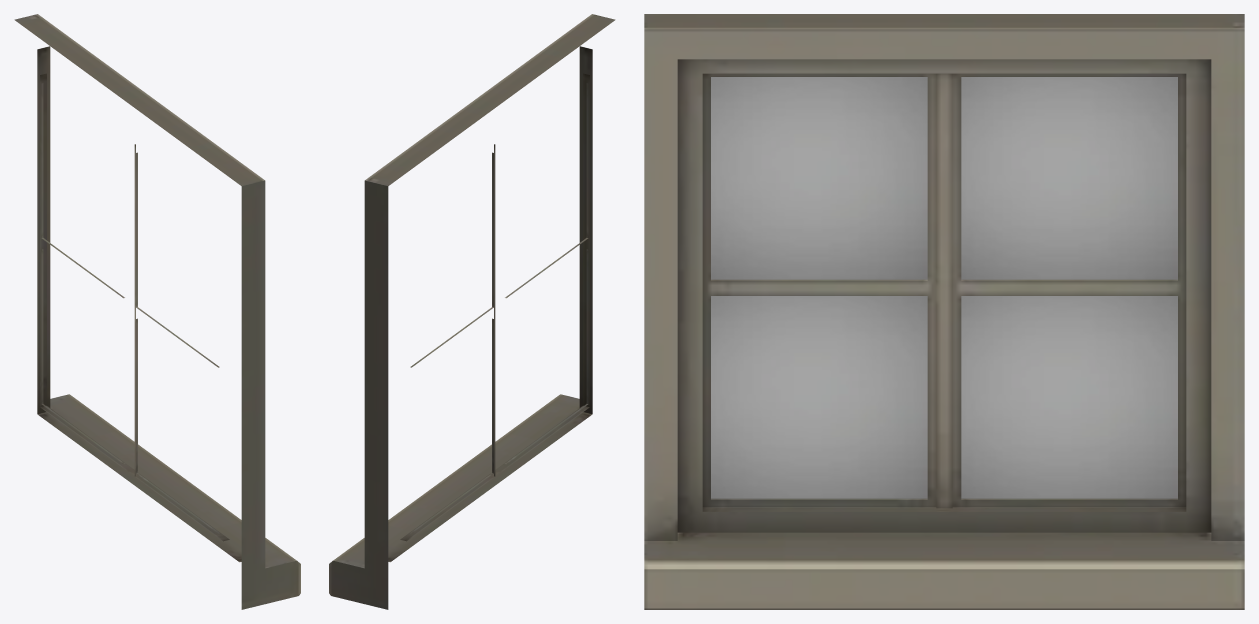
The picture shows the model from 3 angles, left to right: view 1: azimuth 30°, elevation 25°; view 2: azimuth 150°, elevation 25°; view 3: azimuth 270°, elevation 25°; orthographic projection. The views are drawn at different scales.
Visible parts, largest first — view 1: body0_model0_lod0_mesh0; view 2: body0_model0_lod0_mesh0; view 3: body0_model0_lod0_mesh0.
Boxes of the visible parts, x1,y1,x2,y2 form: body0_model0_lod0_mesh0: (14,14,300,609); body0_model0_lod0_mesh0: (329,14,615,609); body0_model0_lod0_mesh0: (644,14,1244,609).
Bounding box in the file's own units: 8.12 × 55.5 × 54.
Materials: 1 (1 with a texture image).
